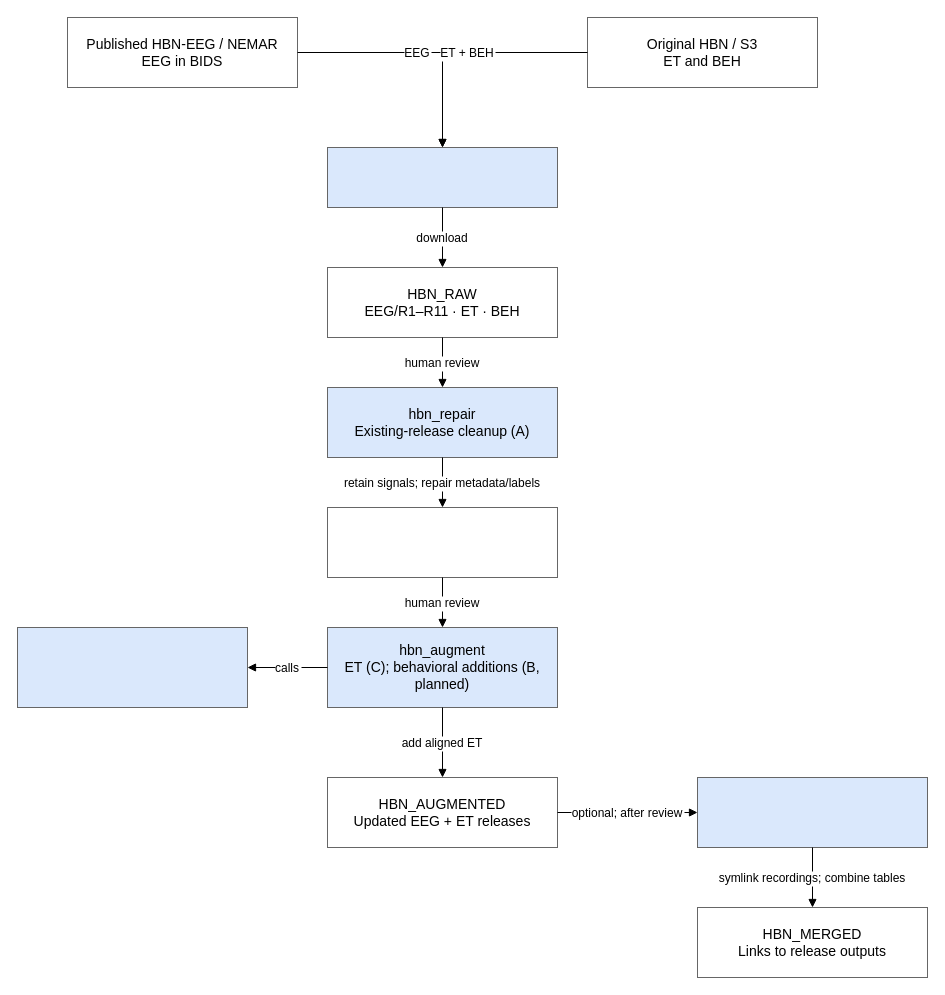
This 945x995 diagram has some shape labels left out. The centre of each missing label's shape, as x and y in pixels:
"download_dataset" goes at (442,177).
"hbn_bundle Optional combined analysis view" goes at (812,812).
"HBN_REPAIRED One EEG BIDS root per release" goes at (442,542).
"smi2bids Reusable SMI → BIDS conversion" goes at (132,667).
